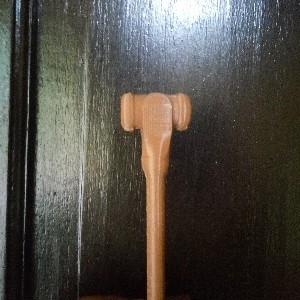palu: (120, 92, 192, 300)
